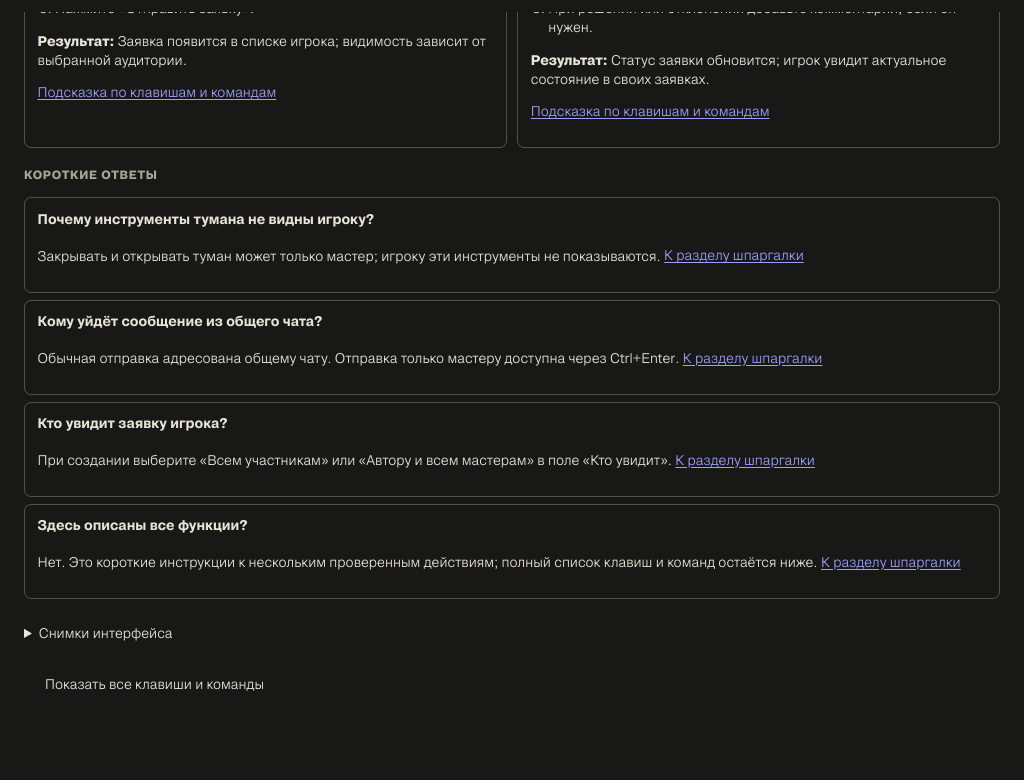
Test: landing guide › reveals the shortcuts, and says which need a GM
(page scrolled)
Click the button "Показать все клавиши и команды": (154, 685) 24,662 -> 285,708
(page scrolled)
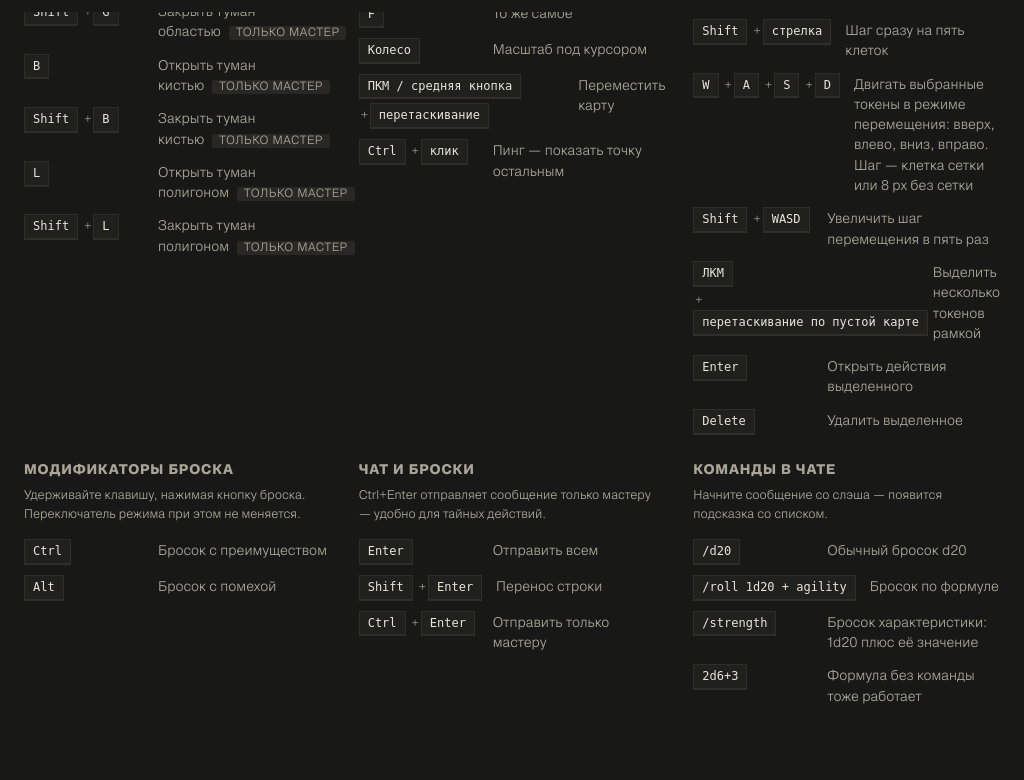
Result: the text "только мастер" is shown 6 times
Result: the text "/d20" is shown at 693,539 -> 740,565
